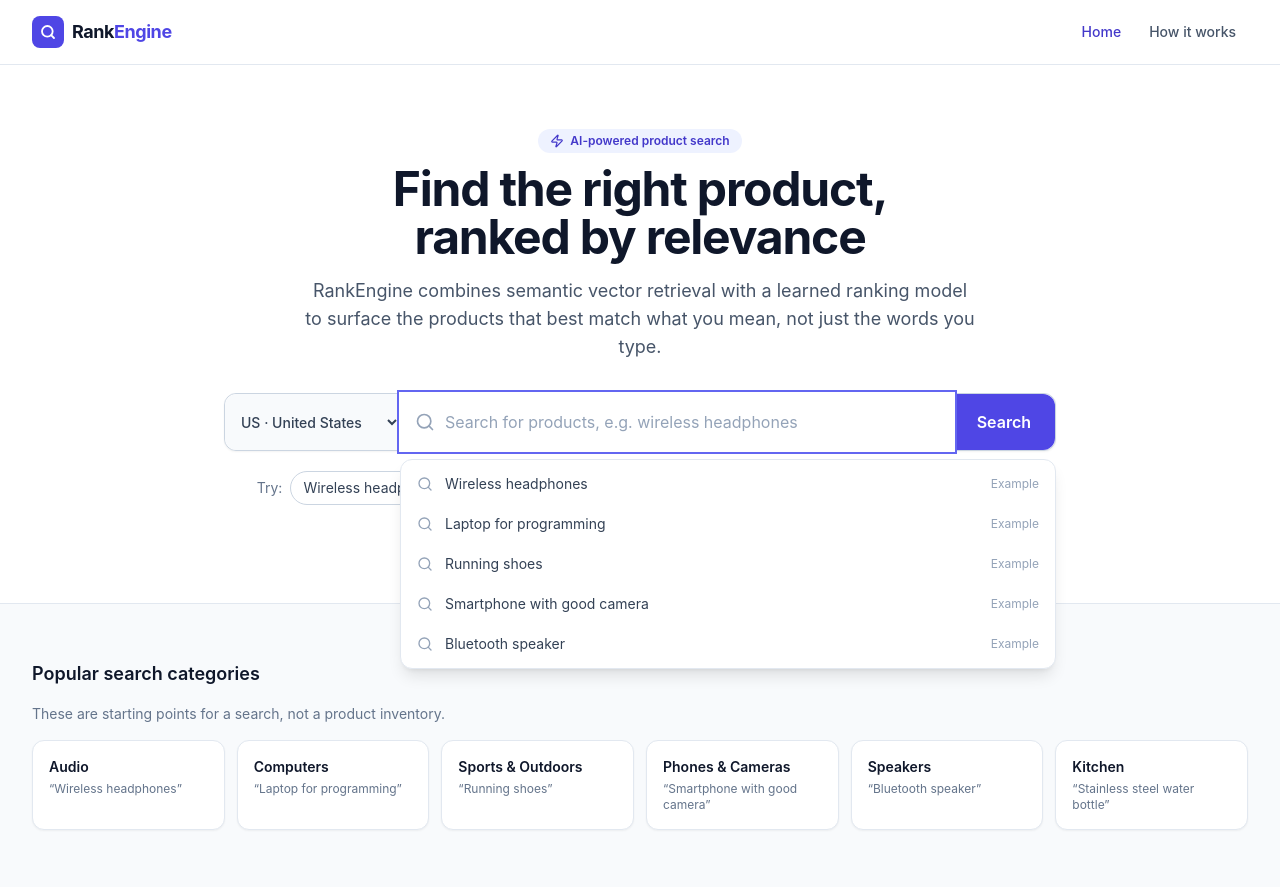
it: home page › searches on Enter and sends the chosen marketplace
The width and height of the screenshot is (1280, 887).
Select "JP · Japan" in the dropdown named "marketplace" at (313, 422), box [225,394,401,450]
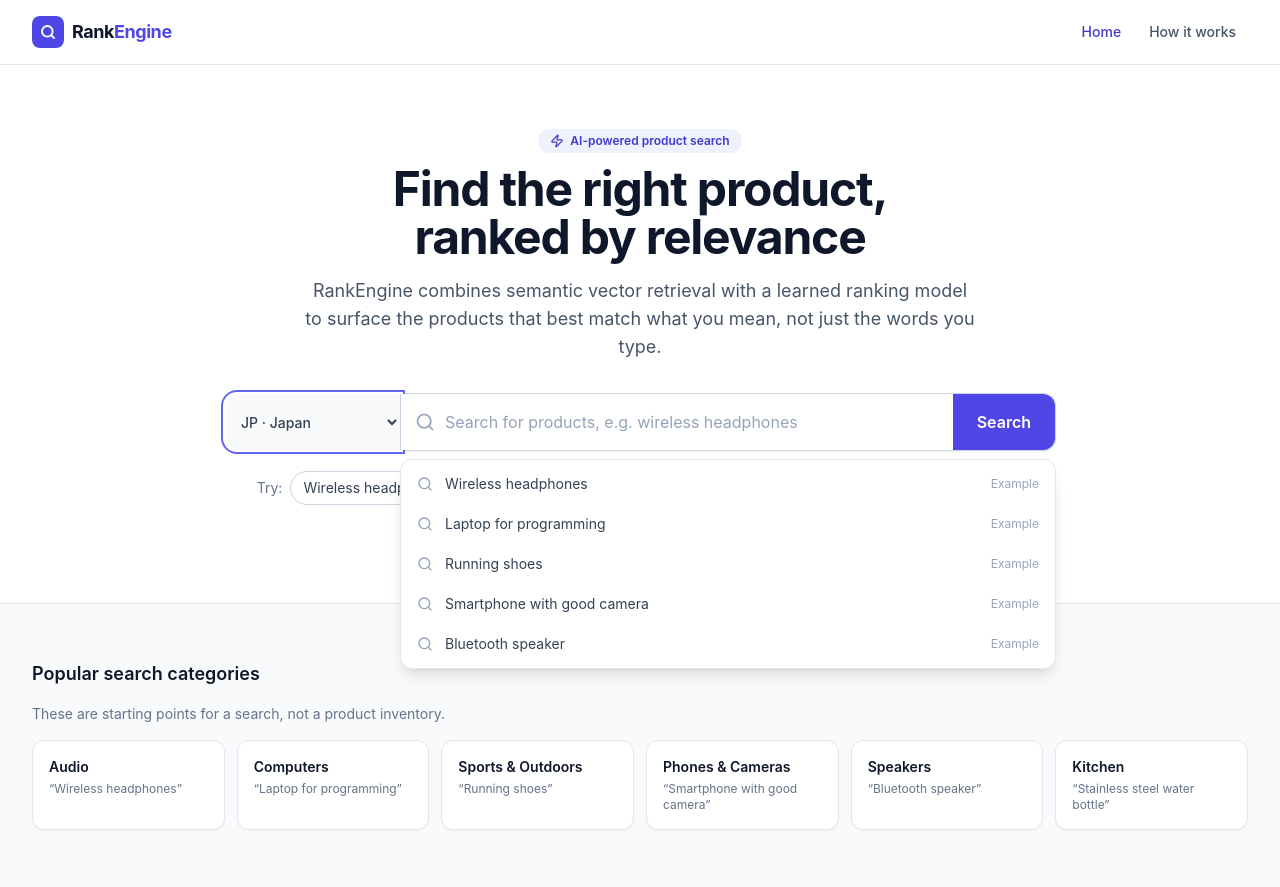
Type "headphones" into the dropdown named "search products" at (677, 422), box [401,394,953,450]
Then press Enter
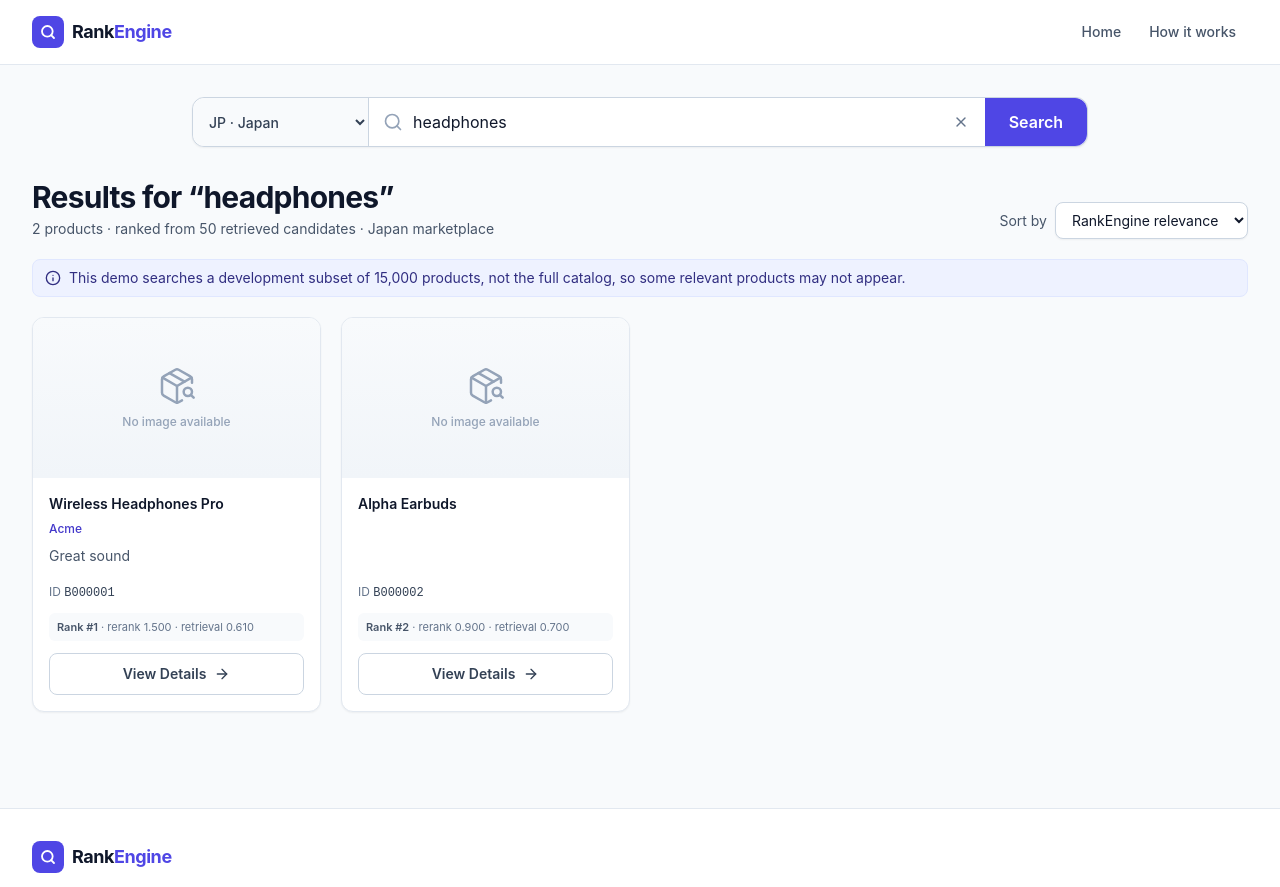
Check: the heading "Results for “headphones”" is shown, box [32,179,394,215]
